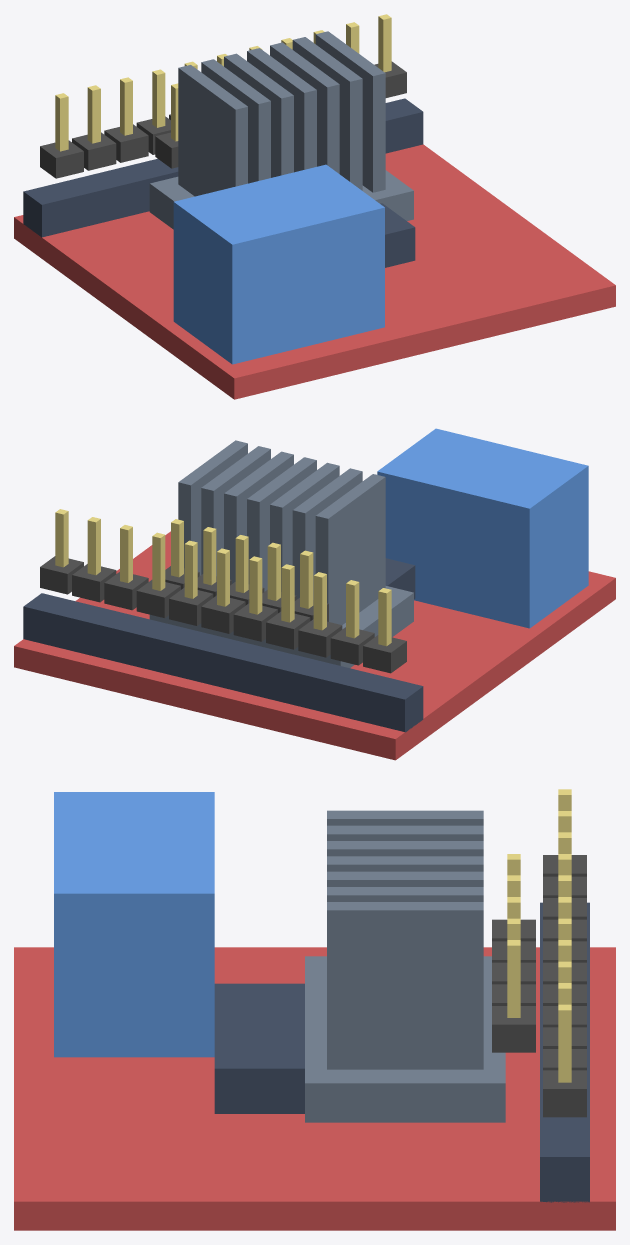
The model's file is tmc2209-stepper-driver.glb.
3 views of the same model, one above another, from view 1: azimuth 30°, elevation 25°; view 2: azimuth 150°, elevation 25°; view 3: azimuth 270°, elevation 25° (orthographic). The views are drawn at different scales.
Visible parts, largest first — view 1: tmc2209-stepper-driver_mesh; view 2: tmc2209-stepper-driver_mesh; view 3: tmc2209-stepper-driver_mesh.
Boxes of the visible parts, x1,y1,x2,y2 form: tmc2209-stepper-driver_mesh: [14, 14, 615, 399]; tmc2209-stepper-driver_mesh: [14, 428, 615, 760]; tmc2209-stepper-driver_mesh: [14, 789, 615, 1230].
Bounding box in the file's own units: 30 × 13.36 × 30.
